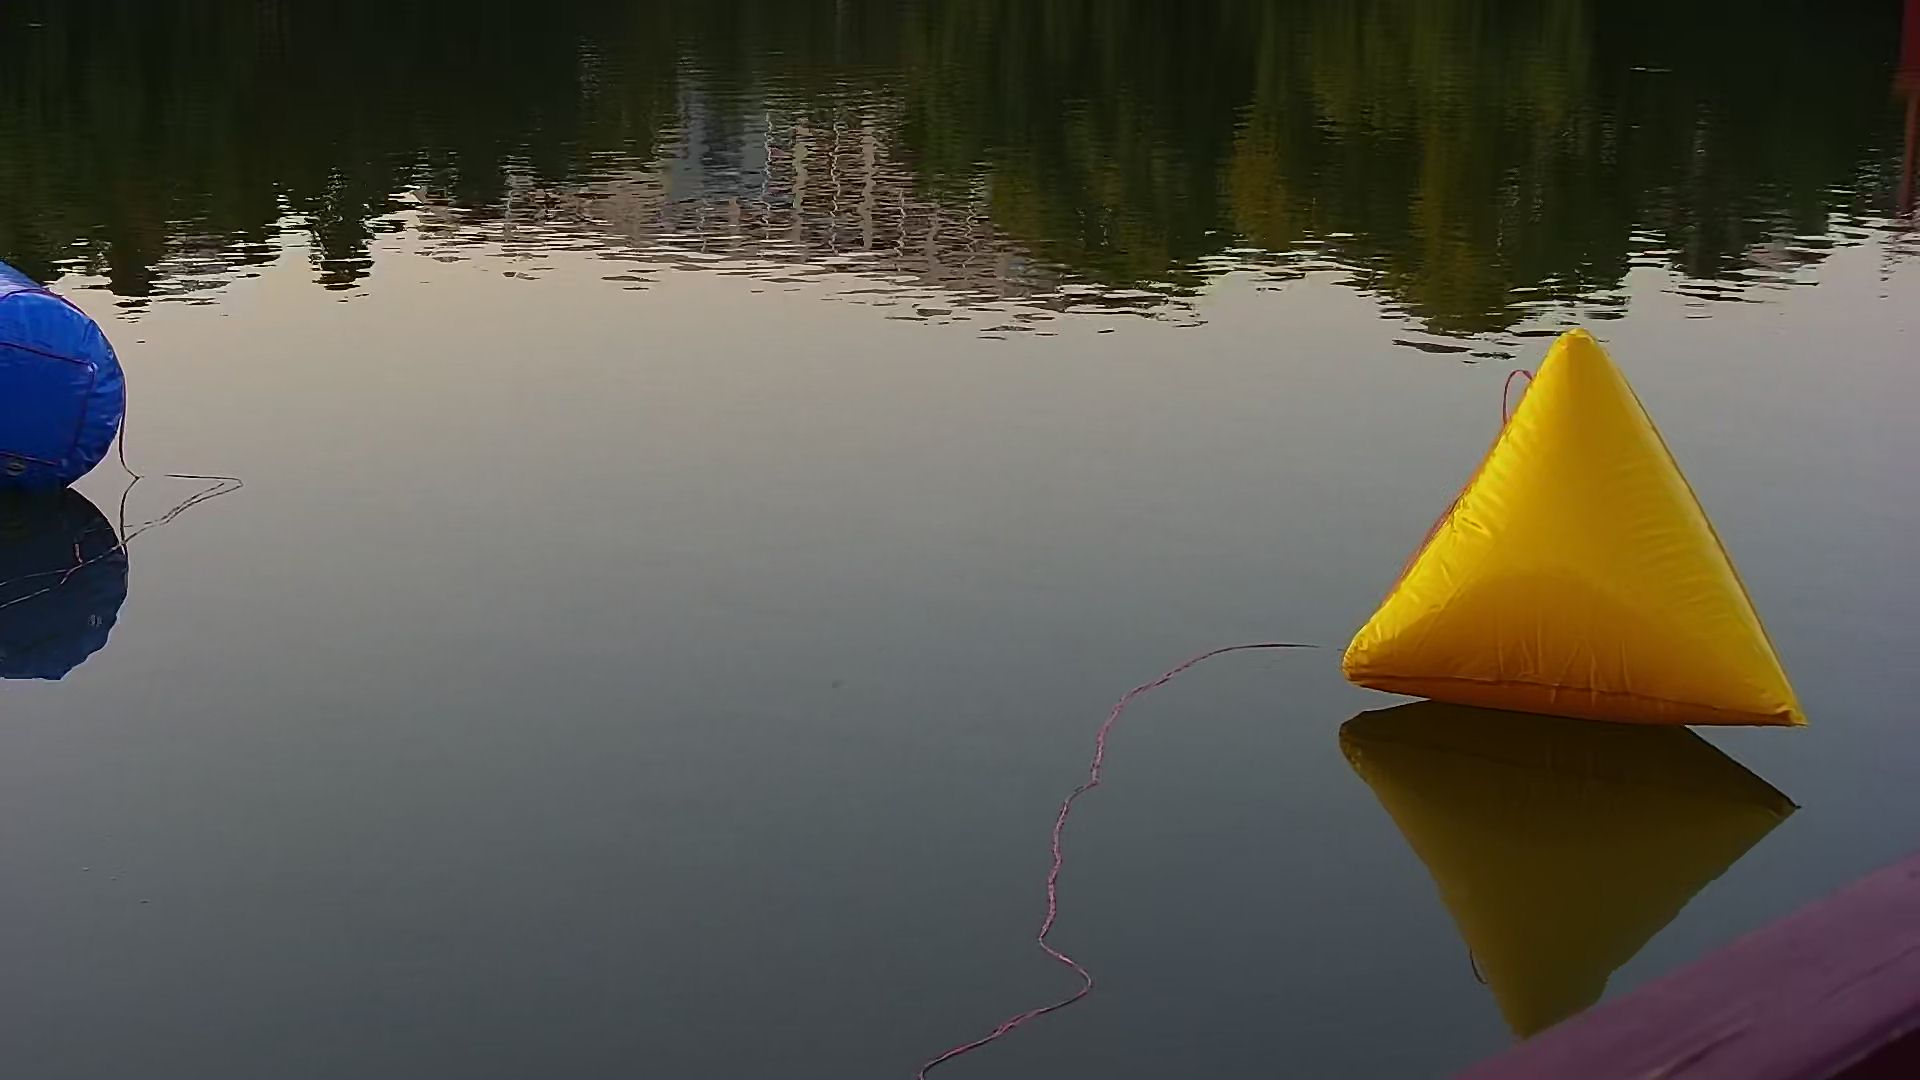rubbish: (1340, 322, 1818, 715), (1, 255, 125, 498)
